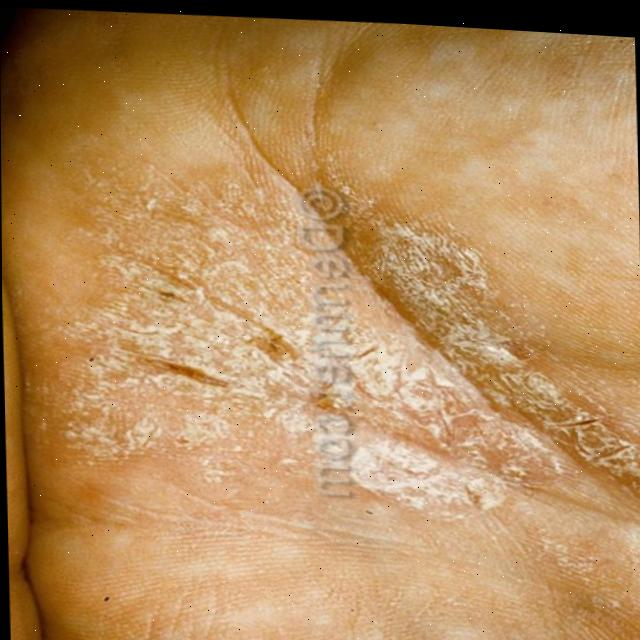Eczema: (79, 150, 611, 550)
